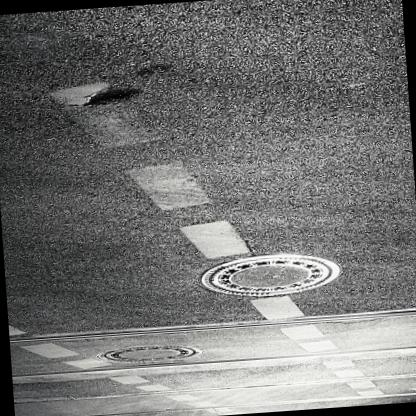manholes: (172, 217, 352, 318), (91, 319, 206, 391)
